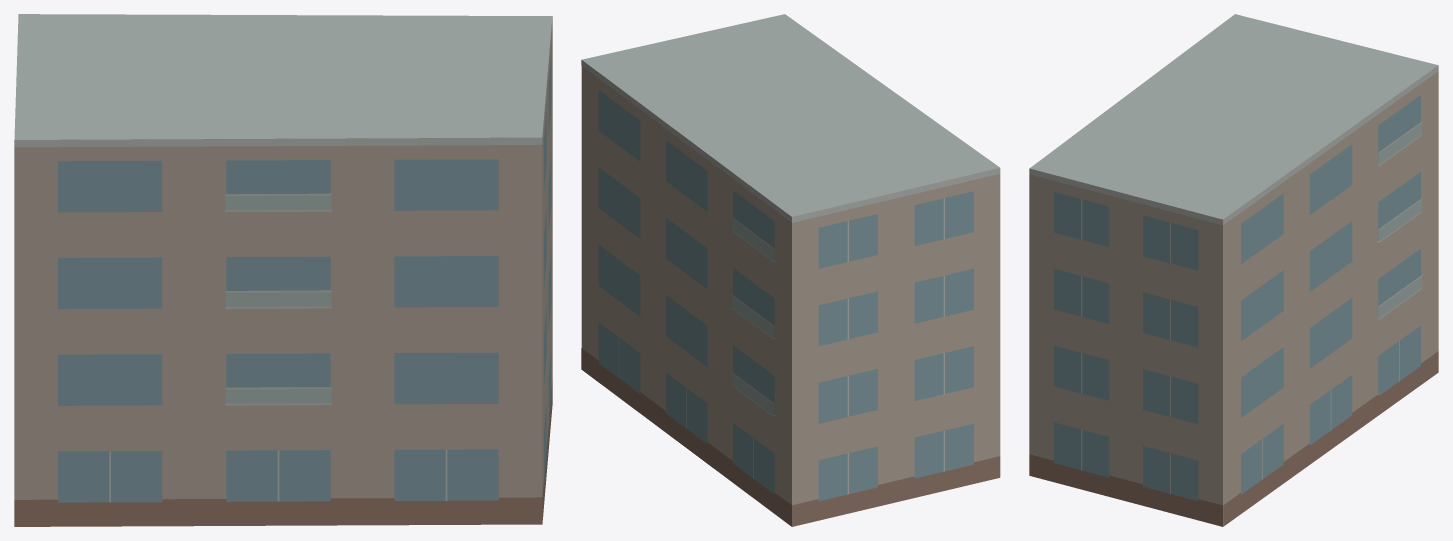
The model's file is survey-upis-32743860.glb.
3 views of the same model, side by side, from view 1: azimuth 30°, elevation 25°; view 2: azimuth 150°, elevation 25°; view 3: azimuth 270°, elevation 25° (orthographic). The views are drawn at different scales.
Visible parts, largest first — view 1: survey-upis-32743860.tmp; view 2: survey-upis-32743860.tmp; view 3: survey-upis-32743860.tmp.
Part boxes in pixels (bbox=[...]): survey-upis-32743860.tmp: bbox=[14, 14, 552, 526]; survey-upis-32743860.tmp: bbox=[581, 14, 1000, 526]; survey-upis-32743860.tmp: bbox=[1029, 14, 1438, 526].
Bounding box in the file's own units: 18.38 × 12.8 × 15.45.
